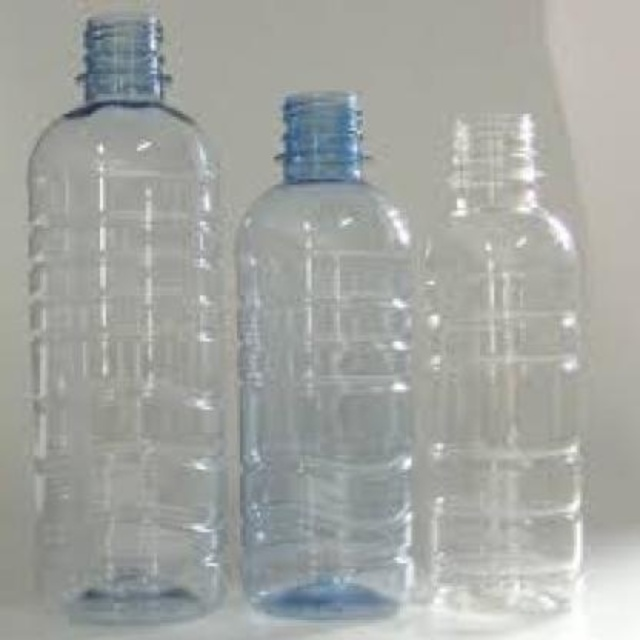trash: (28, 12, 225, 620), (238, 91, 412, 615), (425, 112, 588, 611)
